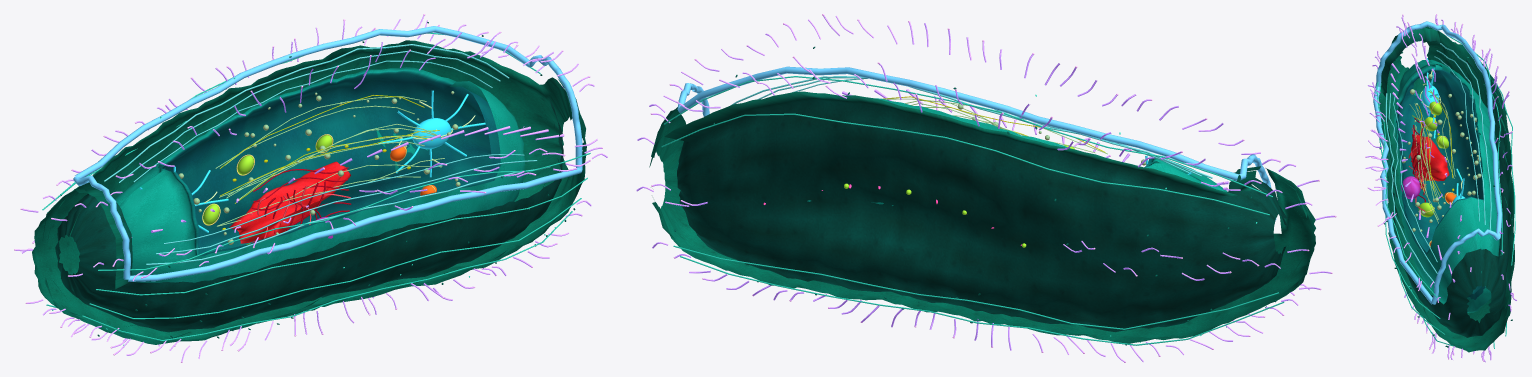
File: paramecium-teaching.mobile.glb
3 views of the same model, side by side, from view 1: azimuth 30°, elevation 25°; view 2: azimuth 150°, elevation 25°; view 3: azimuth 270°, elevation 25° (orthographic). The views are drawn at different scales.
Visible parts, largest first — view 1: solid outer pellicle with open teaching window, solid exposed cytoplasm surface inside cutaway window, folded bean shaped macronucleus envelope, lower cutaway rim, upper cutaway rim, raised longitudinal pellicle ridge 16, laminated cutaway tissue stripe 1, raised longitudinal pellicle ridge 15, front cutaway rim, raised longitudinal pellicle ridge 14, rear cutaway rim, raised longitudinal pellicle ridge 13 (+6 smaller); view 2: solid outer pellicle with open teaching window, lower cutaway rim, solid exposed cytoplasm surface inside cutaway window, raised longitudinal pellicle ridge 6, raised longitudinal pellicle ridge 1, raised longitudinal pellicle ridge 2, raised longitudinal pellicle ridge 7, laminated cutaway tissue stripe 1; view 3: solid exposed cytoplasm surface inside cutaway window, solid outer pellicle with open teaching window, lower cutaway rim, upper cutaway rim, folded bean shaped macronucleus envelope, front cutaway rim, rear cutaway rim, laminated cutaway tissue stripe 1, laminated cutaway tissue stripe 4, raised longitudinal pellicle ridge 13, small micronucleus for reproduction and heredity, laminated cutaway tissue stripe 5 (+10 smaller).
Boxes of the visible parts, bbox=[...] form: solid outer pellicle with open teaching window: bbox=[32, 40, 586, 344]; solid exposed cytoplasm surface inside cutaway window: bbox=[114, 67, 525, 282]; folded bean shaped macronucleus envelope: bbox=[229, 161, 350, 243]; lower cutaway rim: bbox=[75, 26, 529, 178]; upper cutaway rim: bbox=[128, 167, 581, 281]; raised longitudinal pellicle ridge 16: bbox=[82, 211, 572, 341]; laminated cutaway tissue stripe 1: bbox=[104, 44, 509, 181]; raised longitudinal pellicle ridge 15: bbox=[89, 198, 581, 319]; front cutaway rim: bbox=[529, 55, 582, 170]; raised longitudinal pellicle ridge 14: bbox=[96, 177, 587, 295]; rear cutaway rim: bbox=[73, 175, 130, 279]; raised longitudinal pellicle ridge 13: bbox=[98, 153, 590, 270]; solid outer pellicle with open teaching window: bbox=[649, 91, 1315, 343]; lower cutaway rim: bbox=[678, 66, 1238, 180]; solid exposed cytoplasm surface inside cutaway window: bbox=[807, 98, 1227, 205]; raised longitudinal pellicle ridge 6: bbox=[661, 113, 1269, 215]; raised longitudinal pellicle ridge 1: bbox=[680, 256, 1284, 345]; raised longitudinal pellicle ridge 2: bbox=[673, 245, 1278, 329]; raised longitudinal pellicle ridge 7: bbox=[664, 76, 1272, 197]; laminated cutaway tissue stripe 1: bbox=[731, 76, 1212, 178]; solid exposed cytoplasm surface inside cutaway window: bbox=[1394, 59, 1499, 312]; solid outer pellicle with open teaching window: bbox=[1379, 26, 1514, 352]; lower cutaway rim: bbox=[1441, 24, 1502, 238]; upper cutaway rim: bbox=[1373, 86, 1432, 304]; folded bean shaped macronucleus envelope: bbox=[1411, 134, 1449, 181]; front cutaway rim: bbox=[1431, 228, 1499, 304]; rear cutaway rim: bbox=[1375, 21, 1442, 87]; laminated cutaway tissue stripe 1: bbox=[1440, 43, 1491, 230]; laminated cutaway tissue stripe 4: bbox=[1385, 93, 1434, 283]; raised longitudinal pellicle ridge 13: bbox=[1376, 82, 1439, 300]; small micronucleus for reproduction and heredity: bbox=[1401, 176, 1420, 199]; laminated cutaway tissue stripe 5: bbox=[1388, 93, 1437, 273].
Bounding box in the file's own units: 5.76 × 2.51 × 1.61.
24 materials, 13 textured.
